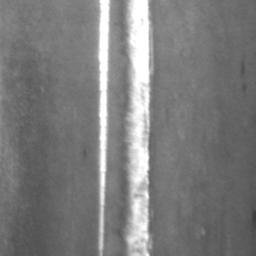Bright scratch: (124, 0, 151, 256), (97, 0, 110, 256)
